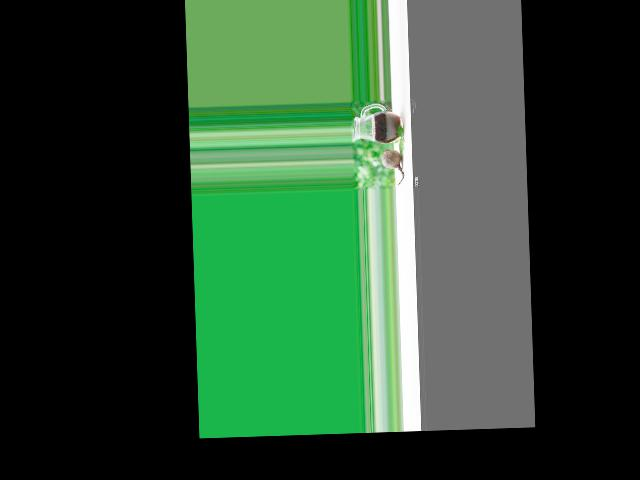beet: (381, 148, 404, 185)
